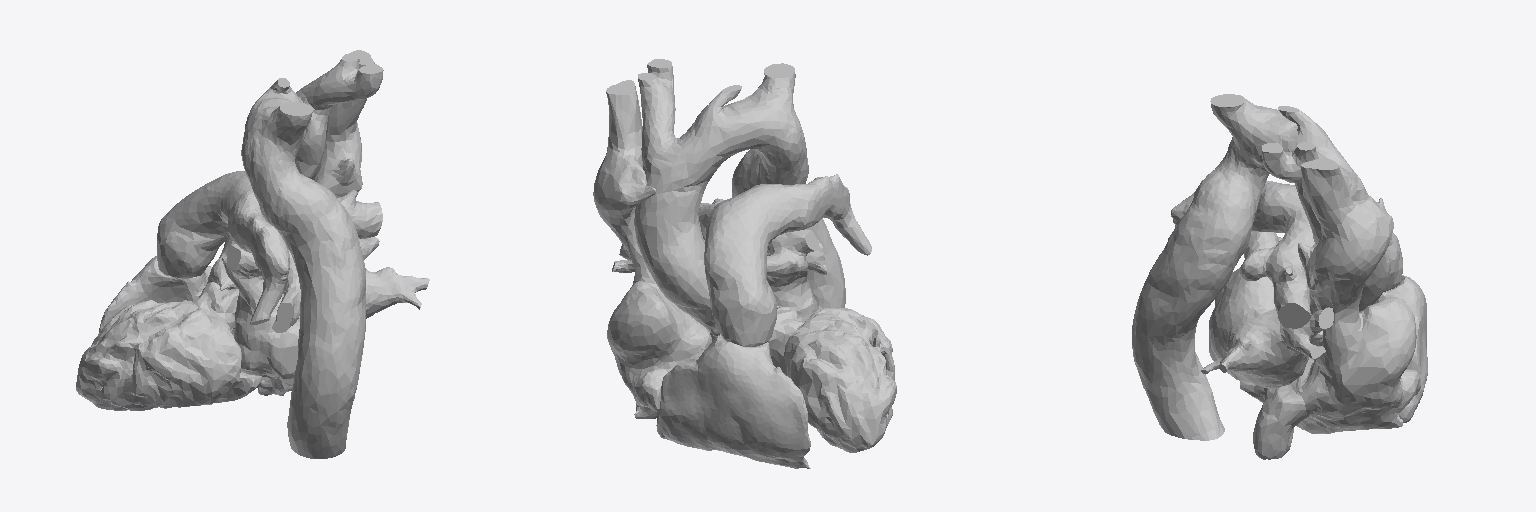
Rendered from 2018012-01PulmonaryArterylowres.obj.
3 renders of one model, left to right at view 1: azimuth 30°, elevation 25°; view 2: azimuth 150°, elevation 25°; view 3: azimuth 270°, elevation 25°, orthographic.
Visible parts, largest first — view 1: Ccase_001_Ao_Repaired_Remeshed_Reduced90_Smoothed_Aligned, Ccase_001_Lv_Repaired_Remeshed_Reduced90_Smoothed_Aligned, Ccase_001_Pa_Repaired_Remeshed_Reduced90_Smoothed_Aligned, Ccase_001_La_Repaired_Remeshed_Reduced90_Smoothed_Aligned, Ccase_001_Ra_Repaired_Remeshed_Reduced90_Smoothed_Aligned, Ccase_001_Rv_Repaired_Remeshed_Reduced90_Smoothed_Aligned; view 2: Ccase_001_Ao_Repaired_Remeshed_Reduced90_Smoothed_Aligned, Ccase_001_Rv_Repaired_Remeshed_Reduced90_Smoothed_Aligned, Ccase_001_Ra_Repaired_Remeshed_Reduced90_Smoothed_Aligned, Ccase_001_Pa_Repaired_Remeshed_Reduced90_Smoothed_Aligned, Ccase_001_Lv_Repaired_Remeshed_Reduced90_Smoothed_Aligned, Ccase_001_La_Repaired_Remeshed_Reduced90_Smoothed_Aligned; view 3: Ccase_001_Ao_Repaired_Remeshed_Reduced90_Smoothed_Aligned, Ccase_001_Ra_Repaired_Remeshed_Reduced90_Smoothed_Aligned, Ccase_001_La_Repaired_Remeshed_Reduced90_Smoothed_Aligned, Ccase_001_Pa_Repaired_Remeshed_Reduced90_Smoothed_Aligned, Ccase_001_Rv_Repaired_Remeshed_Reduced90_Smoothed_Aligned.
Part boxes in pixels (x1,y1,x2,y2): Ccase_001_Ao_Repaired_Remeshed_Reduced90_Smoothed_Aligned: (207, 54, 383, 458); Ccase_001_Lv_Repaired_Remeshed_Reduced90_Smoothed_Aligned: (76, 282, 266, 410); Ccase_001_Pa_Repaired_Remeshed_Reduced90_Smoothed_Aligned: (157, 171, 382, 324); Ccase_001_La_Repaired_Remeshed_Reduced90_Smoothed_Aligned: (222, 237, 429, 378); Ccase_001_Ra_Repaired_Remeshed_Reduced90_Smoothed_Aligned: (258, 50, 374, 400); Ccase_001_Rv_Repaired_Remeshed_Reduced90_Smoothed_Aligned: (99, 256, 253, 390); Ccase_001_Ao_Repaired_Remeshed_Reduced90_Smoothed_Aligned: (634, 59, 845, 336); Ccase_001_Rv_Repaired_Remeshed_Reduced90_Smoothed_Aligned: (656, 334, 810, 468); Ccase_001_Ra_Repaired_Remeshed_Reduced90_Smoothed_Aligned: (593, 80, 711, 418); Ccase_001_Pa_Repaired_Remeshed_Reduced90_Smoothed_Aligned: (699, 174, 871, 346); Ccase_001_Lv_Repaired_Remeshed_Reduced90_Smoothed_Aligned: (768, 306, 896, 452); Ccase_001_La_Repaired_Remeshed_Reduced90_Smoothed_Aligned: (612, 229, 826, 340); Ccase_001_Ao_Repaired_Remeshed_Reduced90_Smoothed_Aligned: (1132, 94, 1390, 440); Ccase_001_Ra_Repaired_Remeshed_Reduced90_Smoothed_Aligned: (1240, 158, 1420, 459); Ccase_001_La_Repaired_Remeshed_Reduced90_Smoothed_Aligned: (1201, 232, 1333, 388); Ccase_001_Pa_Repaired_Remeshed_Reduced90_Smoothed_Aligned: (1171, 180, 1402, 328); Ccase_001_Rv_Repaired_Remeshed_Reduced90_Smoothed_Aligned: (1313, 275, 1427, 422).
Bounding box in the file's own units: 153 × 162 × 134.